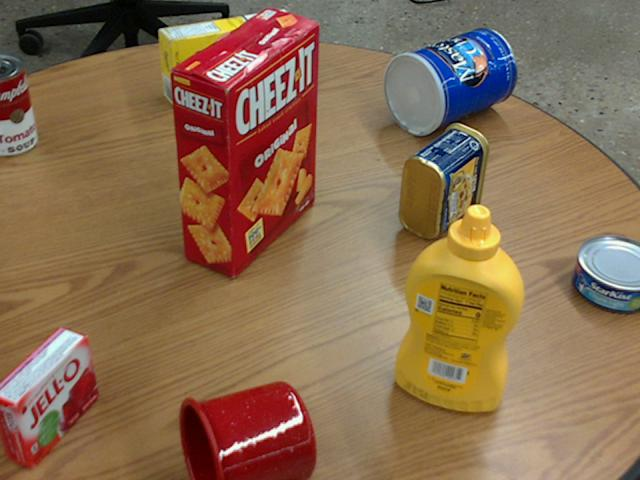cracker_box: (169, 8, 319, 276)
gelatin_box: (0, 326, 94, 467)
master_chef_can: (382, 27, 515, 134)
mug: (175, 381, 314, 479)
mustard_bottle: (393, 204, 522, 411)
potted_meat_can: (399, 122, 488, 238)
sugar_box: (158, 8, 296, 104)
tomato_soup_can: (0, 50, 36, 155)
tuna_fish_can: (570, 234, 639, 312)
